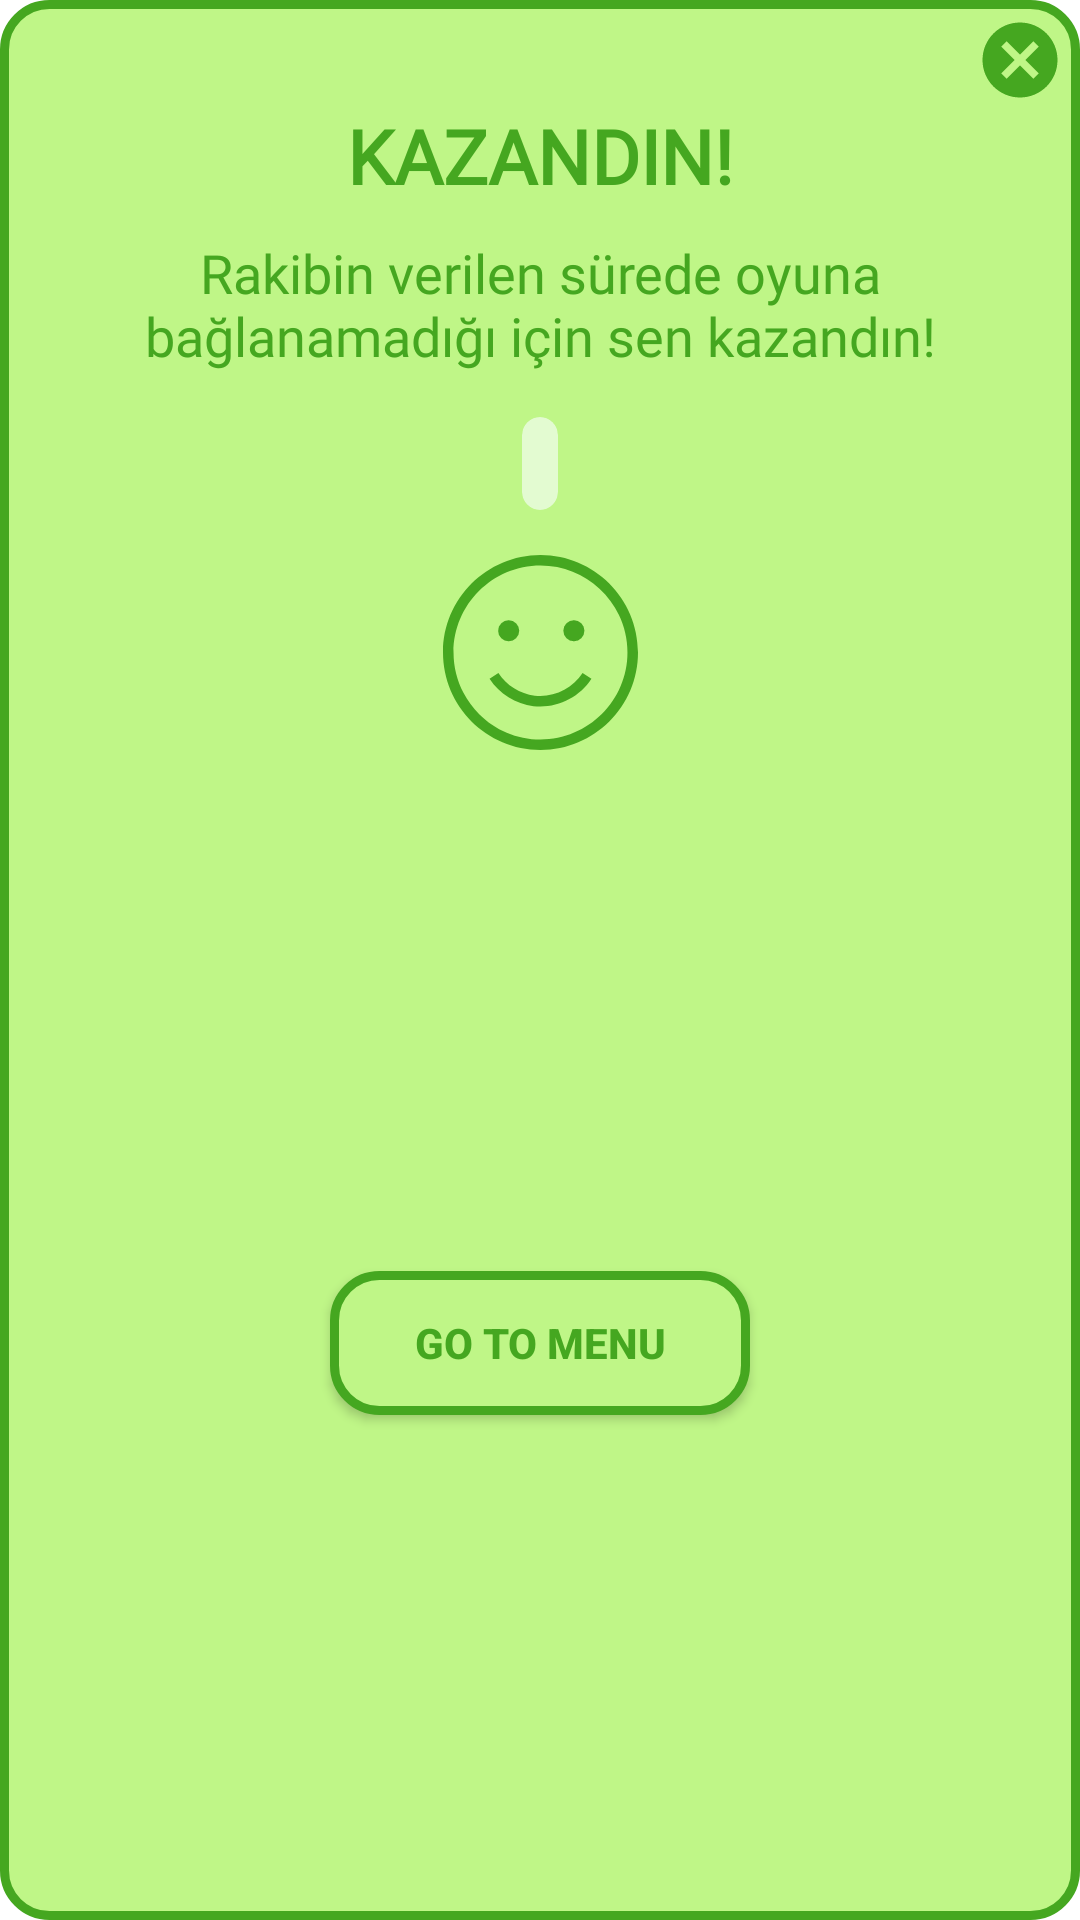

Named icons in this screenshot (1080x1920) and their bounding boxes, (x1, y1, x2, y2):
cancel kazandin: (982, 22, 1058, 98)
happiness: (443, 555, 638, 750)
